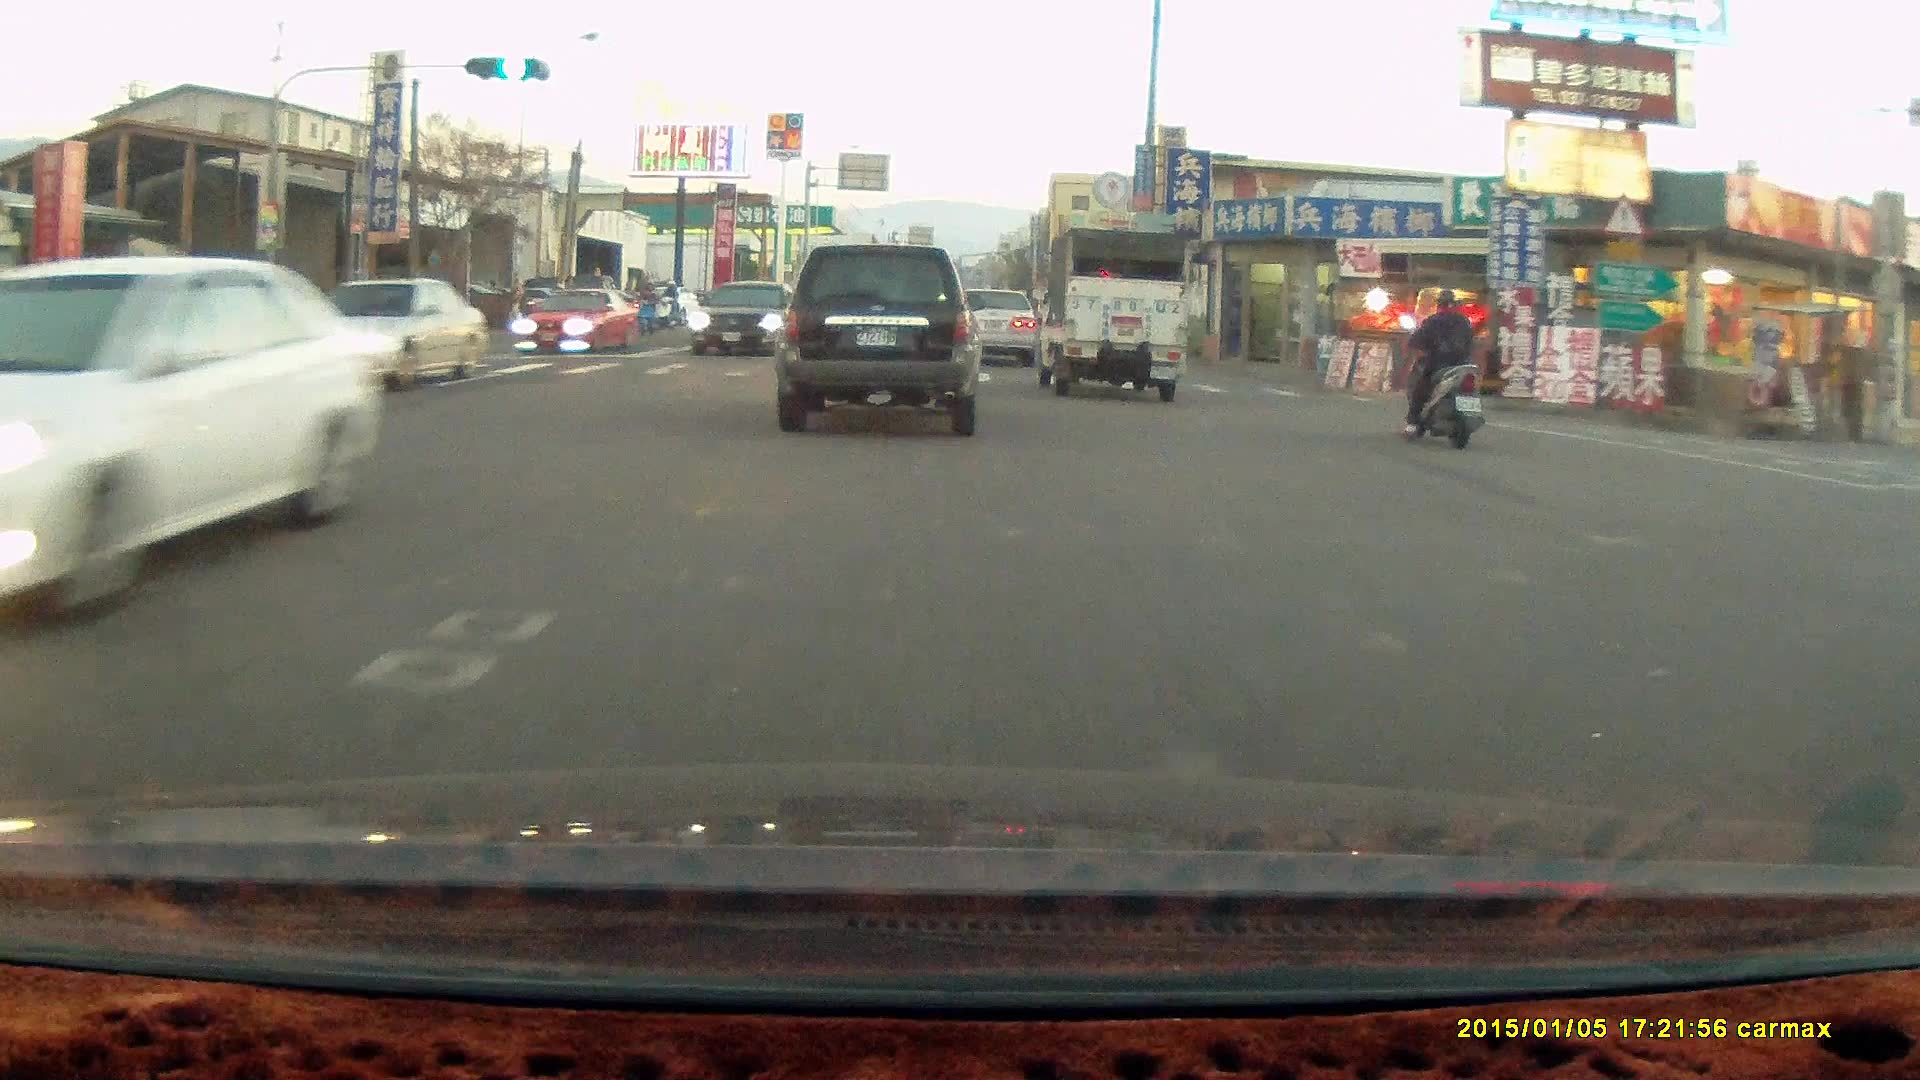rider: (1395, 283, 1483, 445), (629, 283, 664, 333), (650, 279, 682, 330)
vehicle: (1, 254, 396, 610), (772, 244, 986, 435), (244, 279, 489, 404), (1027, 226, 1184, 401), (689, 280, 813, 359), (127, 280, 289, 335), (524, 285, 637, 358), (946, 286, 1037, 367), (953, 289, 1040, 370)
